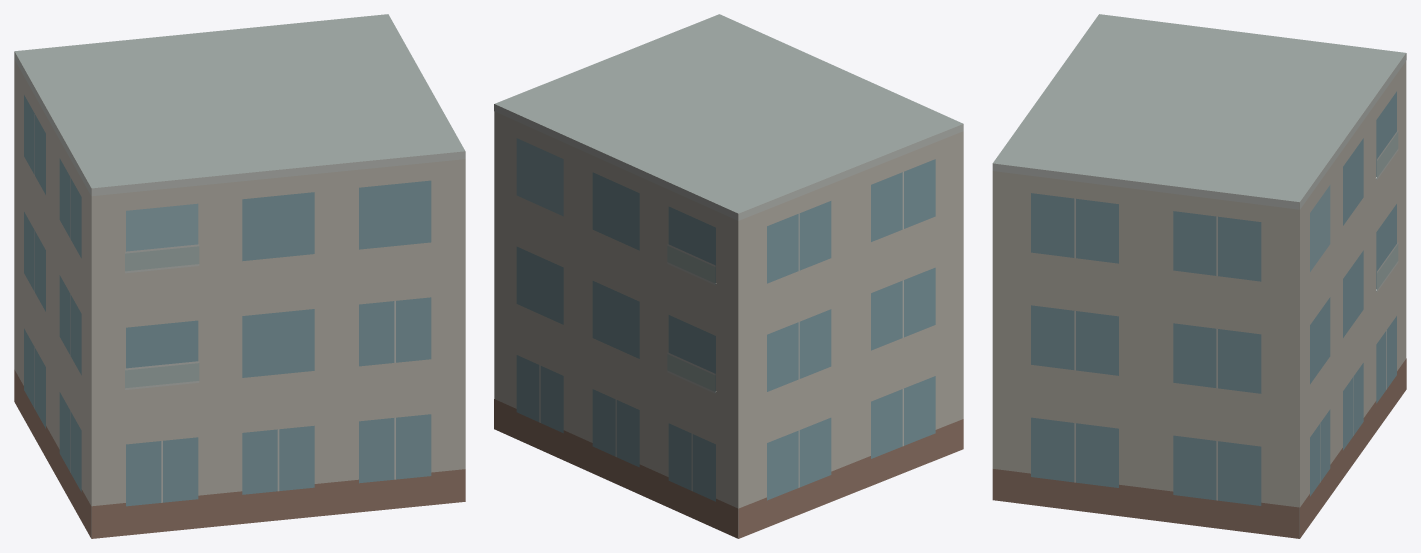
File: survey-upis-32916630.glb
The picture shows the model from 3 angles, left to right: view 1: azimuth 30°, elevation 25°; view 2: azimuth 150°, elevation 25°; view 3: azimuth 270°, elevation 25°; orthographic projection. The views are drawn at different scales.
Parts seen in each view (by area): view 1: survey-upis-32916630.tmp; view 2: survey-upis-32916630.tmp; view 3: survey-upis-32916630.tmp.
Boxes of the visible parts, <box> form: survey-upis-32916630.tmp: <box>14,14,465,538</box>; survey-upis-32916630.tmp: <box>494,14,963,538</box>; survey-upis-32916630.tmp: <box>992,14,1406,538</box>.
Size of the model in its own units: 13.01 by 10.85 by 12.1.
